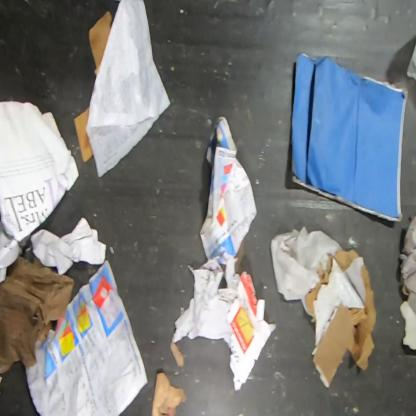cardboard: (288, 50, 412, 224), (303, 249, 377, 388), (0, 240, 76, 375), (89, 11, 115, 77), (73, 107, 94, 165)
